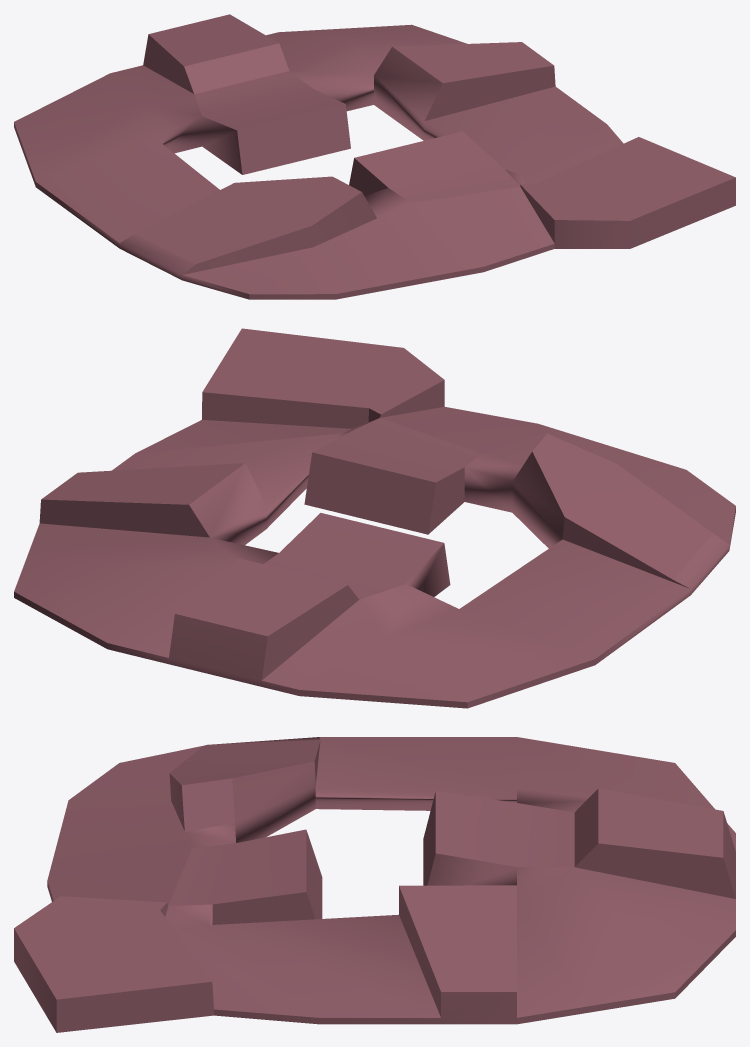
The model's file is S_Floor_Break_02.fbx.
The picture shows the model from 3 angles, top to bottom: view 1: azimuth 30°, elevation 25°; view 2: azimuth 150°, elevation 25°; view 3: azimuth 270°, elevation 25°; orthographic projection. The views are drawn at different scales.
Parts seen in each view (by area): view 1: S_Floor_Break_02; view 2: S_Floor_Break_02; view 3: S_Floor_Break_02.
Part boxes in pixels (box(x1,y1,x2,y2)): S_Floor_Break_02: box(14, 14, 735, 299); S_Floor_Break_02: box(14, 328, 735, 708); S_Floor_Break_02: box(14, 737, 735, 1032).
Bounding box in the file's own units: 150 × 16.47 × 157.
